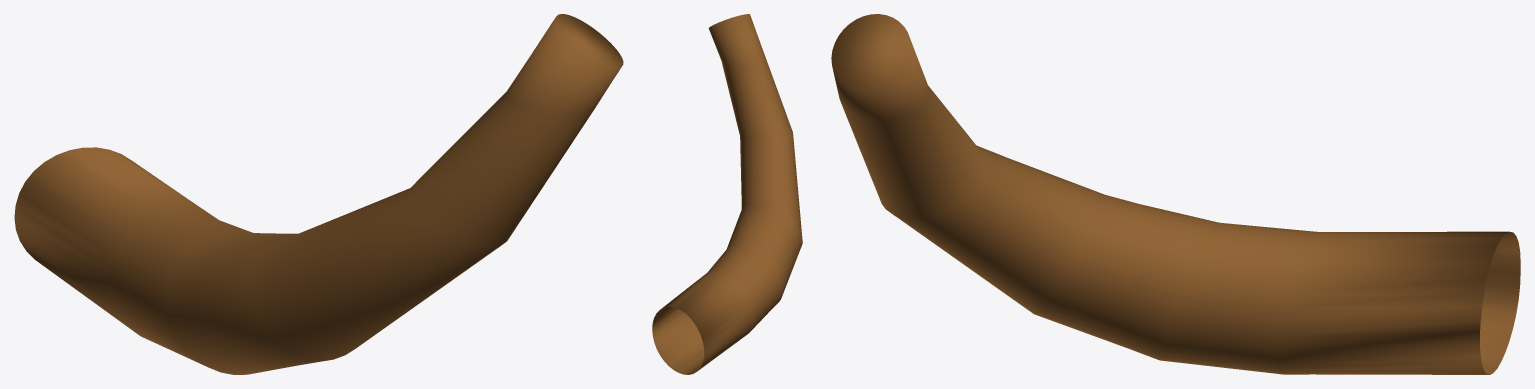
3 views of the same model, side by side, from view 1: azimuth 30°, elevation 25°; view 2: azimuth 150°, elevation 25°; view 3: azimuth 270°, elevation 25° (orthographic). The views are drawn at different scales.
Size of the model in its own units: 0.015 by 0.0206 by 0.0291.
